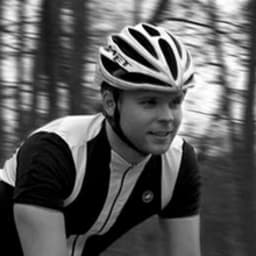helmet: (99, 22, 194, 154)
